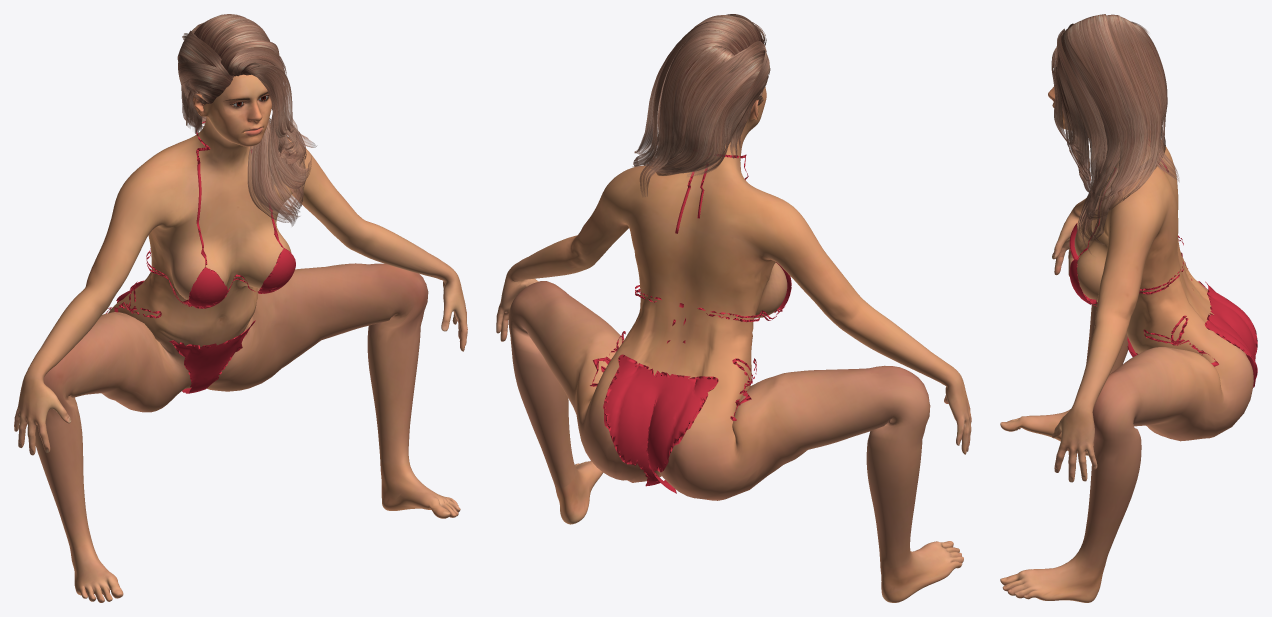
File: female_squat_pulse_v3.glb
3 views of the same model, side by side, from view 1: azimuth 30°, elevation 25°; view 2: azimuth 150°, elevation 25°; view 3: azimuth 270°, elevation 25° (orthographic). The views are drawn at different scales.
Parts seen in each view (by area): view 1: Body, Body.elvs_adrienne_hair, Bikini; view 2: Body, Body.elvs_adrienne_hair, Bikini; view 3: Body, Body.elvs_adrienne_hair, Bikini.
Boxes of the visible parts, x1,y1,x2,y2 form: Body: (14,74,467,602); Body.elvs_adrienne_hair: (177,14,316,226); Bikini: (106,121,295,393); Body: (496,66,971,602); Body.elvs_adrienne_hair: (632,14,770,196); Bikini: (590,154,791,493); Body: (1000,86,1253,602); Body.elvs_adrienne_hair: (1051,14,1179,254); Bikini: (1069,161,1257,387).
Bounding box in the file's own units: 1.07 × 1.2 × 0.5492.
Materials: 8 (7 with a texture image).
